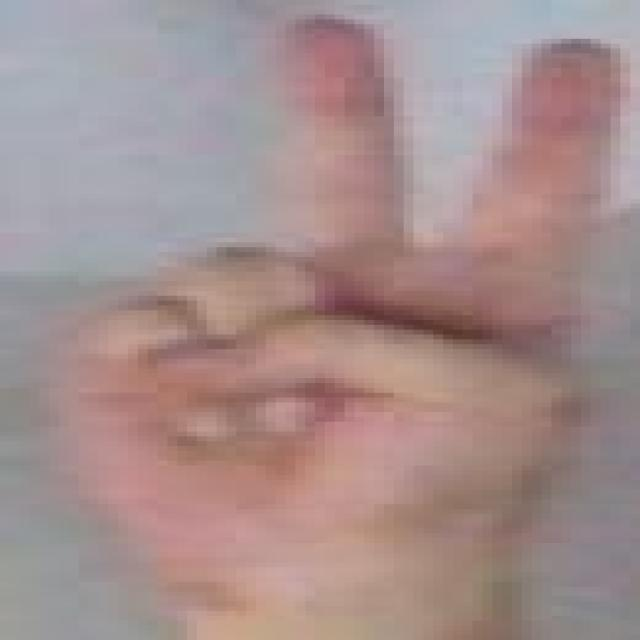V: (14, 5, 640, 614)
